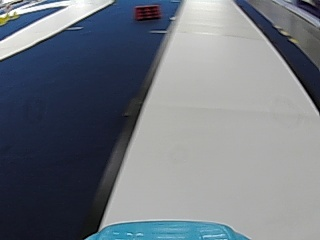bomb: (135, 4, 160, 19)
